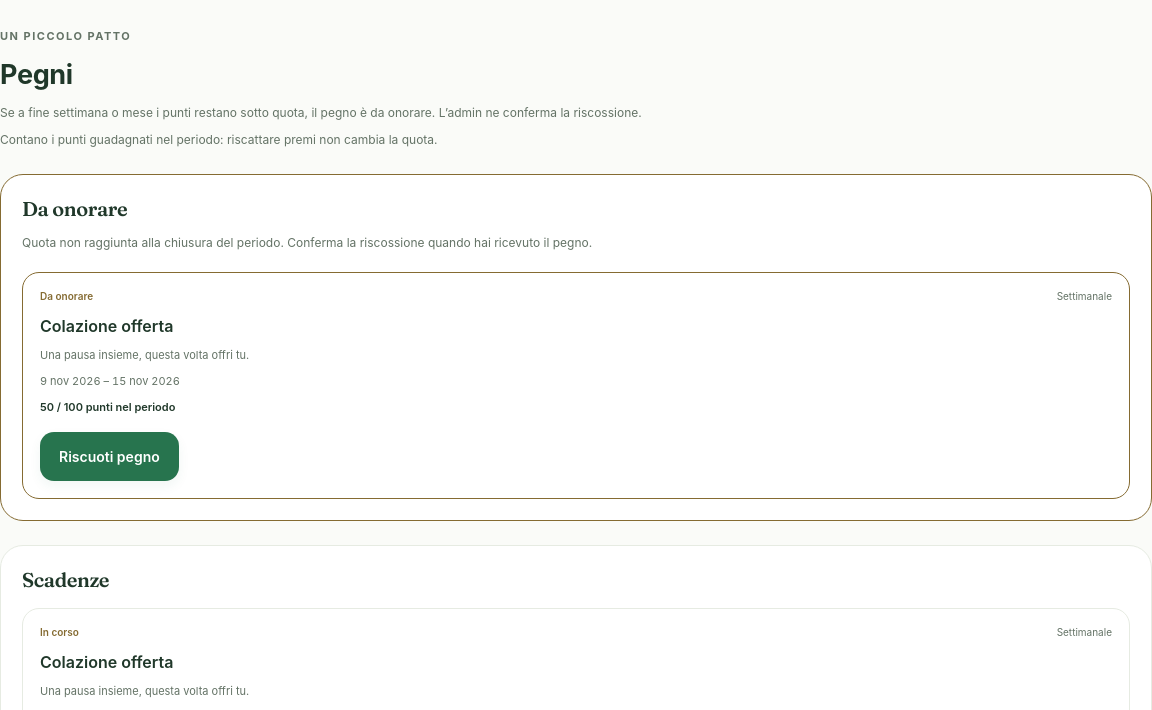
Scenario: chiede conferma all’admin e conserva gli identificativi al nuovo tentativo
Later steps or results of the test are not shown.
Click the button "Riscuoti pegno": (109, 457) [40, 432, 179, 481]
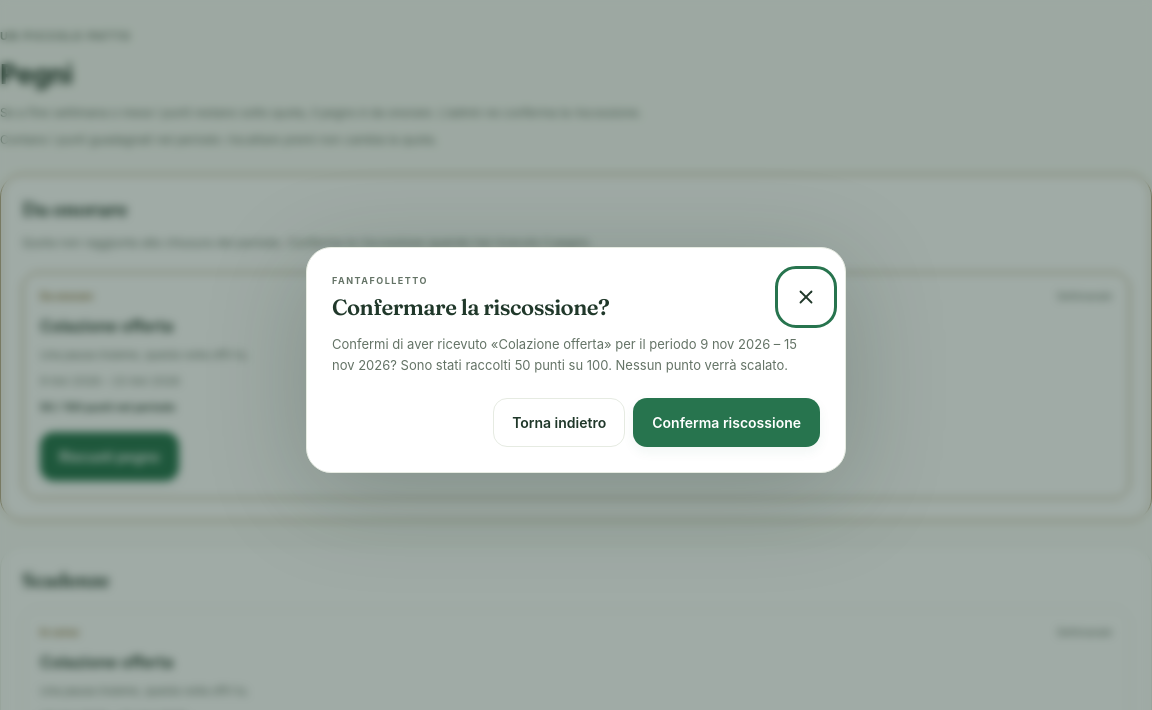
Result: the text "Confermi di aver ricevuto" is shown at [332, 336, 797, 373]
